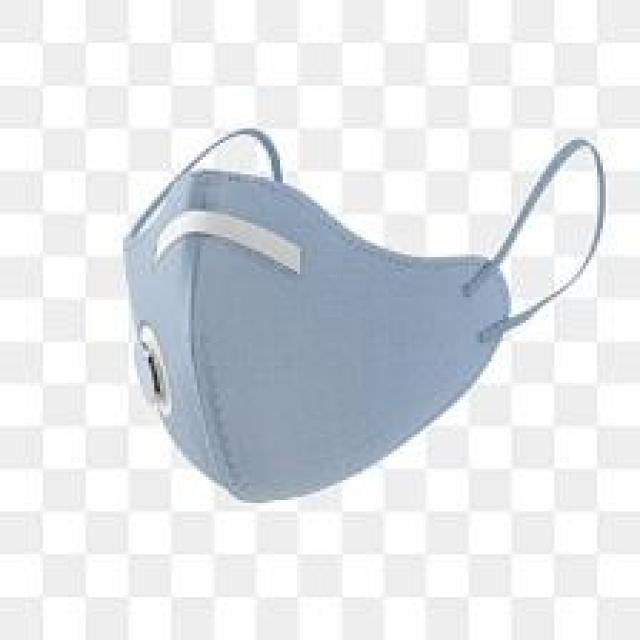Mask: (114, 140, 635, 592)
